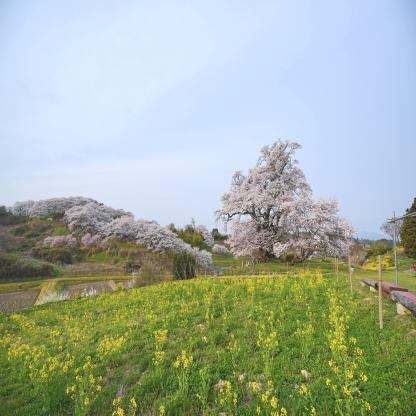EdohiganSakura: (214, 138, 358, 267)
